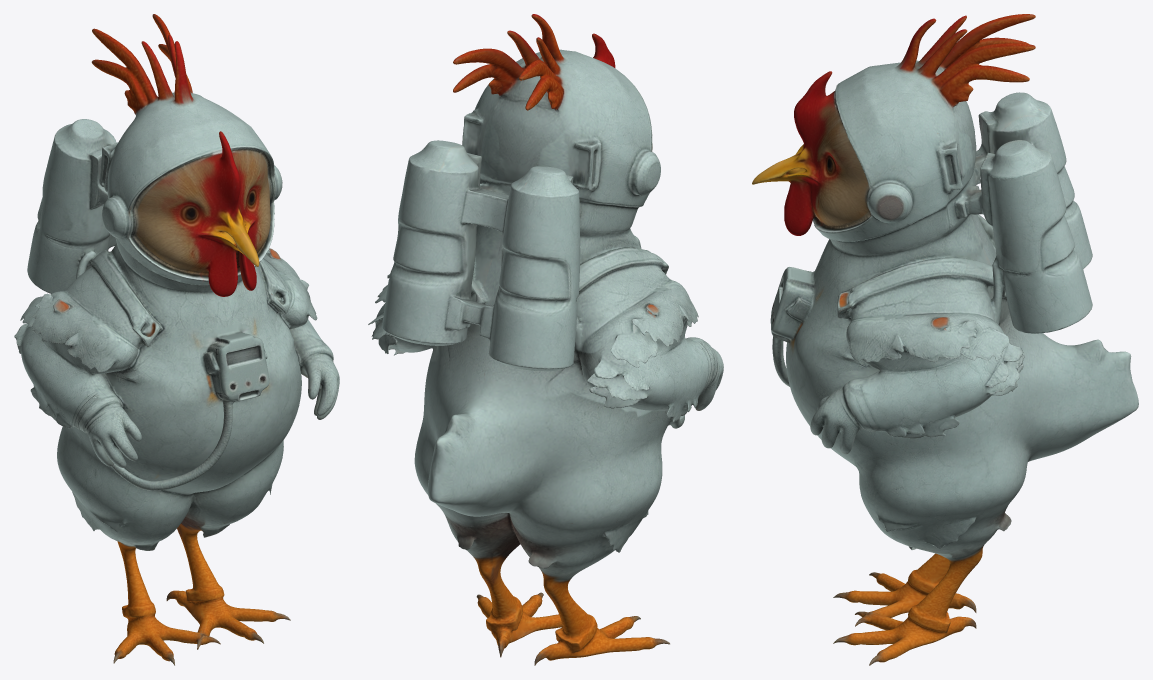
The model's file is space_chicken!.glb.
The picture shows the model from 3 angles, left to right: view 1: azimuth 30°, elevation 25°; view 2: azimuth 150°, elevation 25°; view 3: azimuth 270°, elevation 25°; orthographic projection. The views are drawn at different scales.
Bounding box in the file's own units: 0.9054 × 1.9 × 1.09.
1 material, 1 textured.
